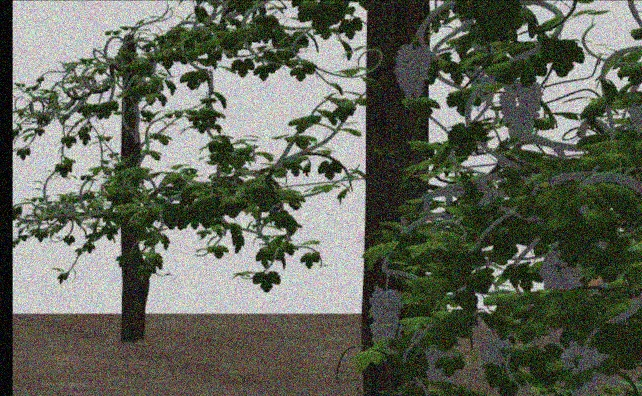grape: (497, 77, 543, 143), (395, 42, 433, 99), (367, 287, 401, 344), (538, 249, 583, 291), (562, 339, 607, 375), (479, 332, 509, 369)
